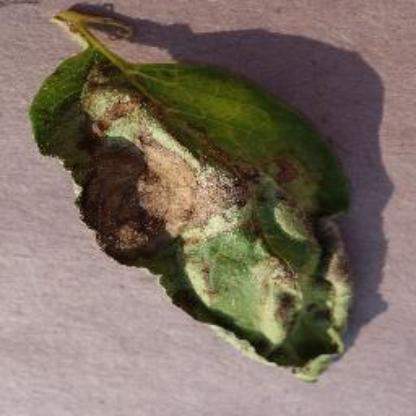Late-Blight: (29, 4, 361, 380)
